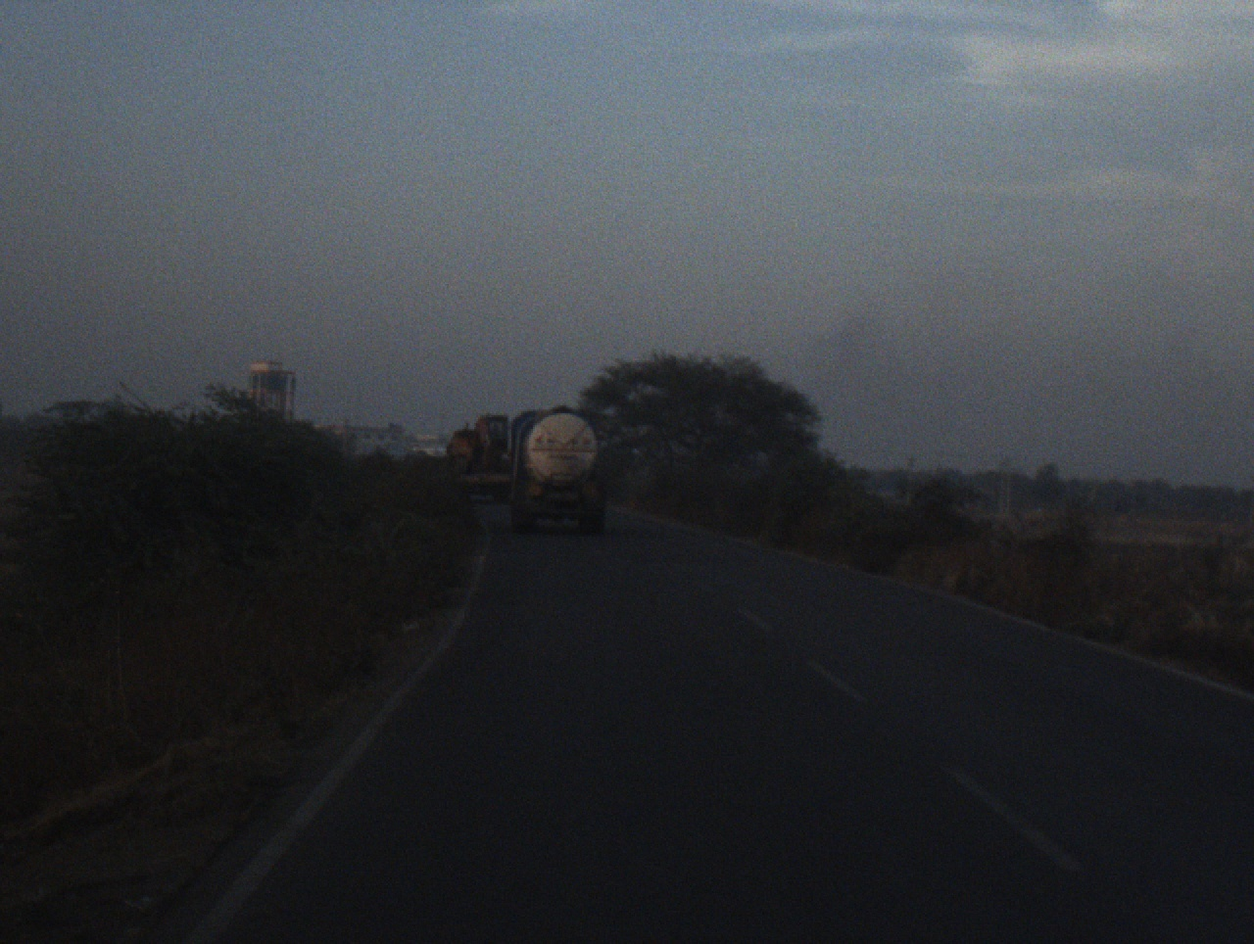truck: (509, 404, 611, 542)
vehicle fallback: (442, 409, 518, 500)
